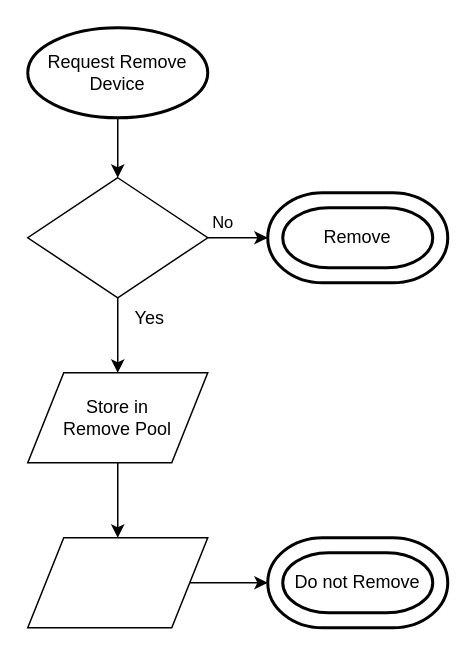
Image size: 474x654. Some labels were removed from this diagram. Each missing label, with the box of its shape:
Is it critical for other devices?: (26, 176, 208, 298)
Warn Admin: (26, 536, 208, 628)
